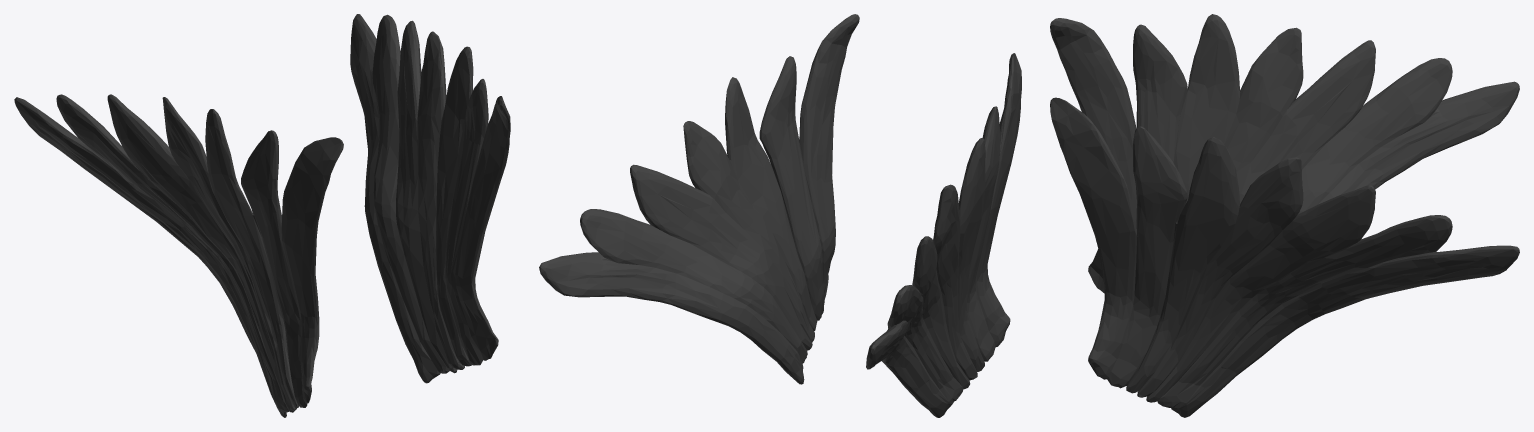
Rendered from m_serratus_ventralis_thoracis.glb.
3 renders of one model, left to right at view 1: azimuth 30°, elevation 25°; view 2: azimuth 150°, elevation 25°; view 3: azimuth 270°, elevation 25°, orthographic. The views are drawn at different scales.
Visible parts, largest first — view 1: m_serratus_ventralis_thoracis; view 2: m_serratus_ventralis_thoracis; view 3: m_serratus_ventralis_thoracis.
Part boxes in pixels (bbox=[...]): m_serratus_ventralis_thoracis: bbox=[14, 14, 510, 417]; m_serratus_ventralis_thoracis: bbox=[539, 14, 1021, 417]; m_serratus_ventralis_thoracis: bbox=[1050, 14, 1519, 417].
Size of the model in its own units: 0.00422 by 0.00385 by 0.00504.
1 material, 1 textured.
